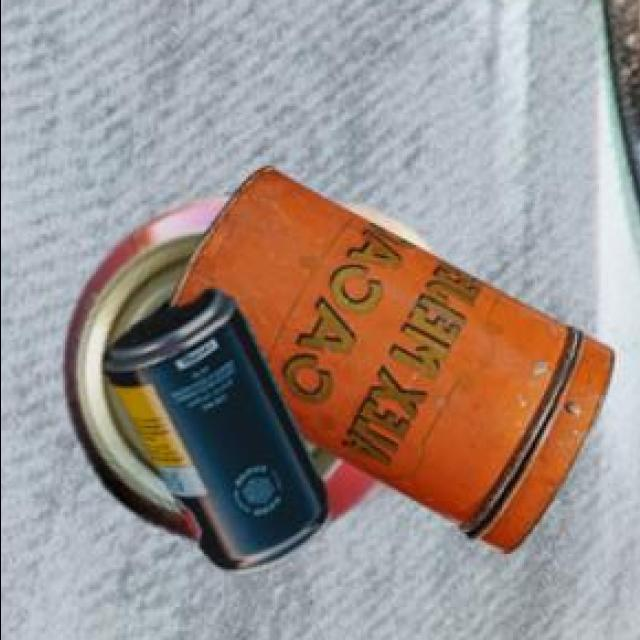logam: (171, 169, 617, 557), (67, 202, 438, 540), (107, 292, 332, 577)
